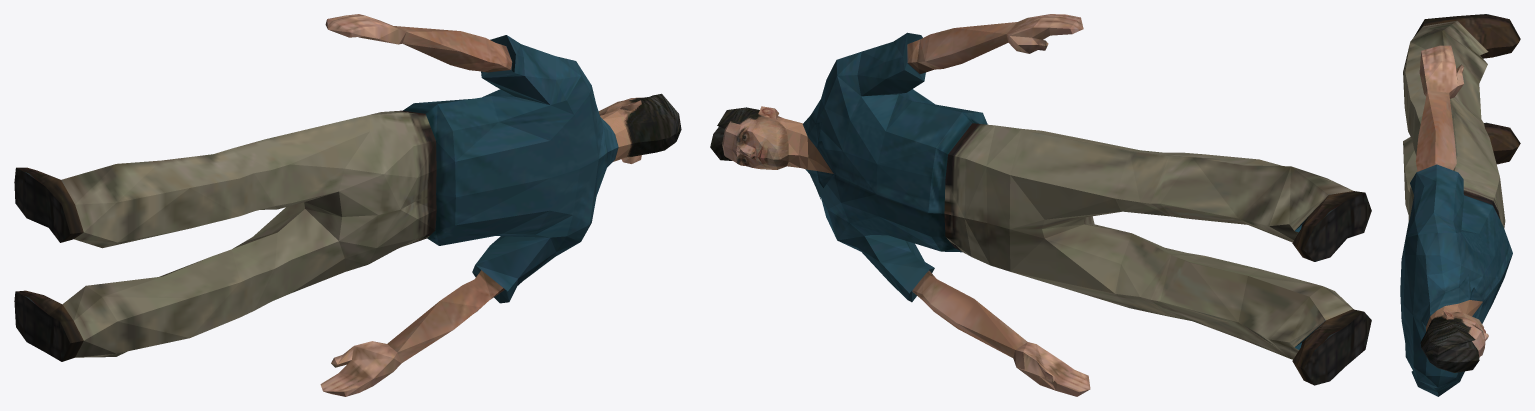
Rendered from lapdpd.obj.
3 renders of one model, left to right at view 1: azimuth 30°, elevation 25°; view 2: azimuth 150°, elevation 25°; view 3: azimuth 270°, elevation 25°, orthographic. The views are drawn at different scales.
Visible parts, largest first — view 1: noname_0; view 2: noname_0; view 3: noname_0.
Boxes of the visible parts, x1=… form: noname_0: x1=14, y1=14, x2=681, y2=396; noname_0: x1=710, y1=14, x2=1371, y2=396; noname_0: x1=1400, y1=14, x2=1520, y2=396.
Size of the model in its own units: 1.84 by 1.03 by 0.3476.
1 material, 1 textured.
